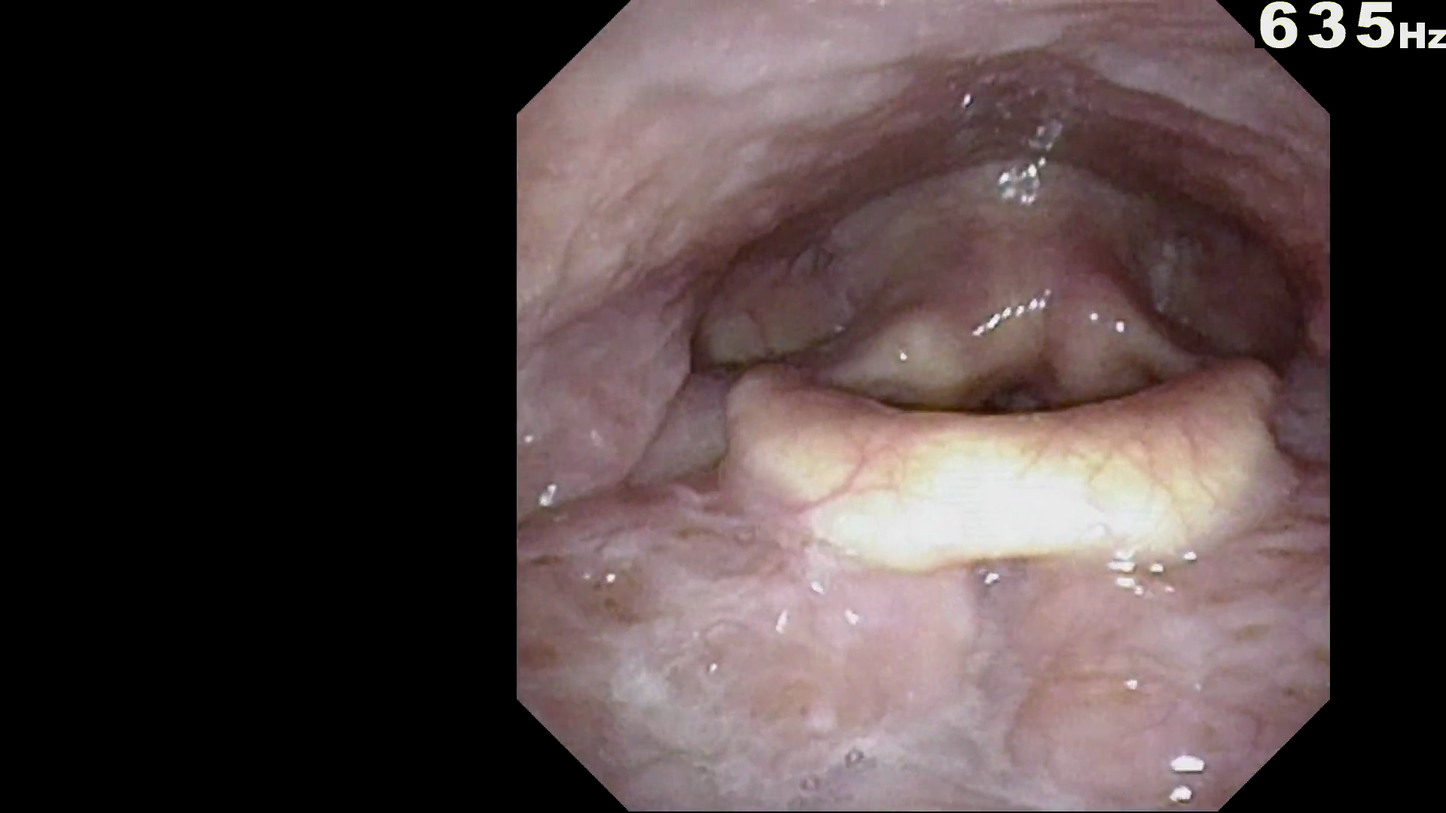epiglottis: (734, 367, 1276, 574)
trachea: (941, 315, 1081, 459)
